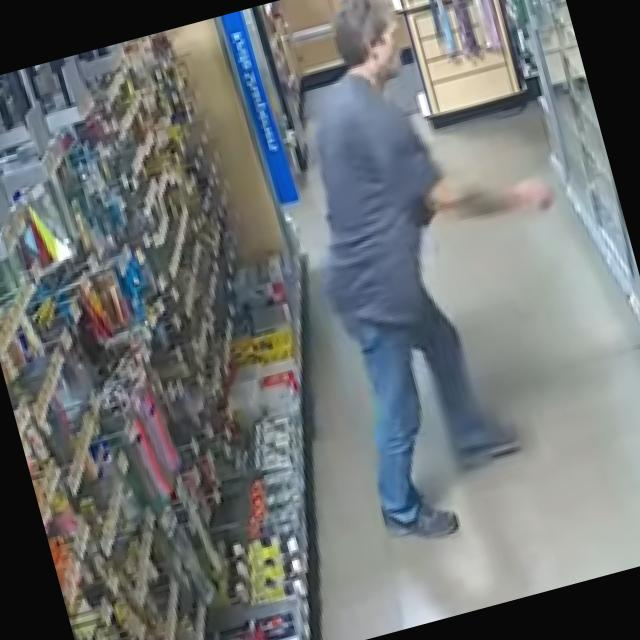person: (249, 0, 628, 549)
